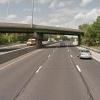Bridge: (2, 15, 84, 46)
